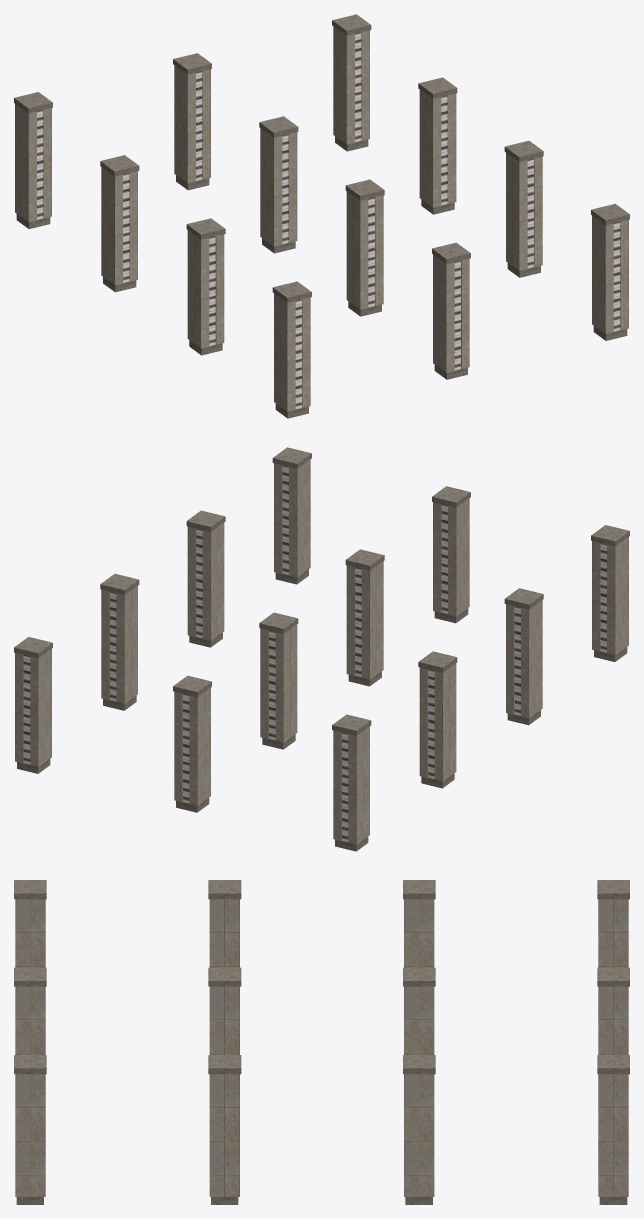
Rendered from Subway04_InterCalumn.FBX.
3 renders of one model, top to bottom at view 1: azimuth 30°, elevation 25°; view 2: azimuth 150°, elevation 25°; view 3: azimuth 270°, elevation 25°, orthographic. The views are drawn at different scales.
Visible parts, largest first — view 1: Subway04_InterCalumn01, Subway04_InterCalumn02; view 2: Subway04_InterCalumn01, Subway04_InterCalumn02; view 3: Subway04_InterCalumn01, Subway04_InterCalumn02.
Boxes of the visible parts, x1,y1,x2,y2 form: Subway04_InterCalumn01: (15, 26, 628, 418); Subway04_InterCalumn02: (14, 14, 629, 302); Subway04_InterCalumn01: (15, 459, 628, 851); Subway04_InterCalumn02: (14, 447, 629, 735); Subway04_InterCalumn01: (15, 899, 628, 1204); Subway04_InterCalumn02: (14, 880, 629, 1074).
Size of the model in its own units: 17661 by 6005 by 24407.
